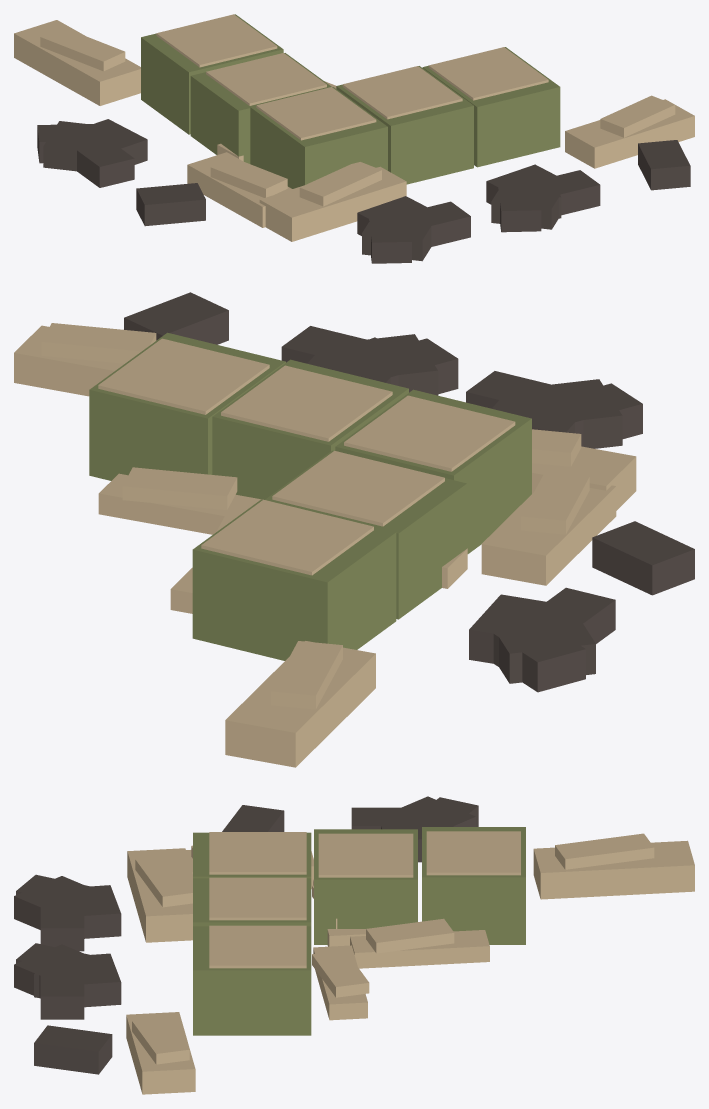
The model's file is SM_HescoEsquina_v0_MallaLimpia_e2_MuyDanado_LOD1.fbx.
3 renders of one model, top to bottom at view 1: azimuth 30°, elevation 25°; view 2: azimuth 150°, elevation 25°; view 3: azimuth 270°, elevation 25°, orthographic. The views are drawn at different scales.
Visible parts, largest first — view 1: SM_hesco_piezas_v2_LOD1; view 2: SM_hesco_piezas_v2_LOD1; view 3: SM_hesco_piezas_v2_LOD1.
Part boxes in pixels (x1,y1,x2,y2): SM_hesco_piezas_v2_LOD1: (14,14,694,263); SM_hesco_piezas_v2_LOD1: (14,292,694,767); SM_hesco_piezas_v2_LOD1: (14,796,694,1094).
Size of the model in its own units: 6.71 by 0.799 by 7.01.
